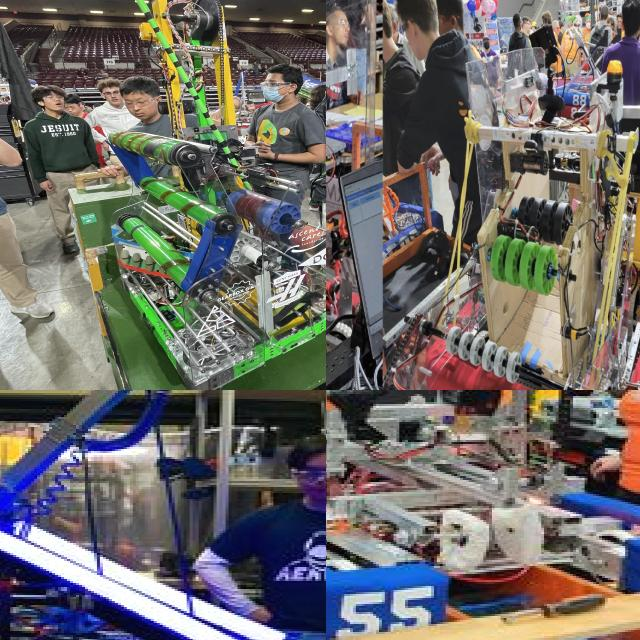FRC-Robots: (74, 7, 326, 377), (0, 390, 326, 640), (402, 65, 640, 390), (326, 390, 640, 634), (534, 0, 611, 117)
